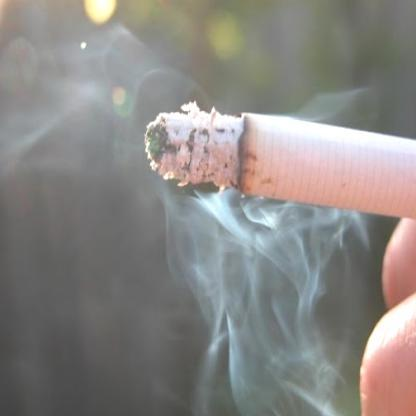cigarette: (145, 108, 416, 230)
smoke: (184, 190, 327, 413)
